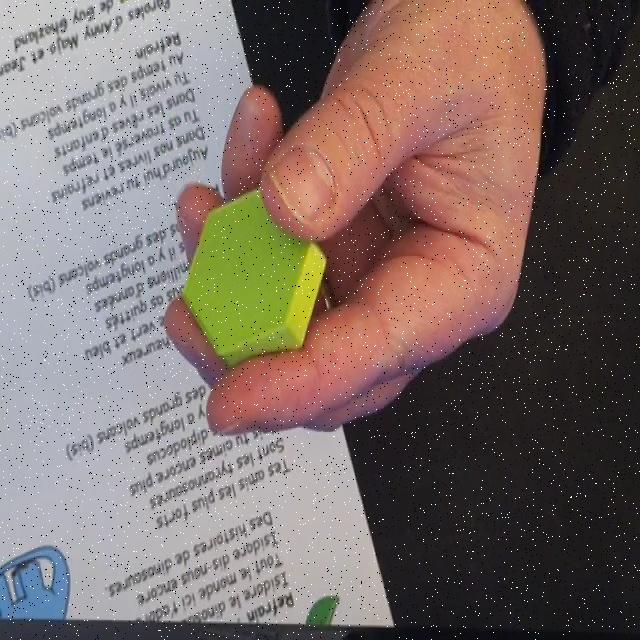hexagon: (180, 184, 326, 362)
